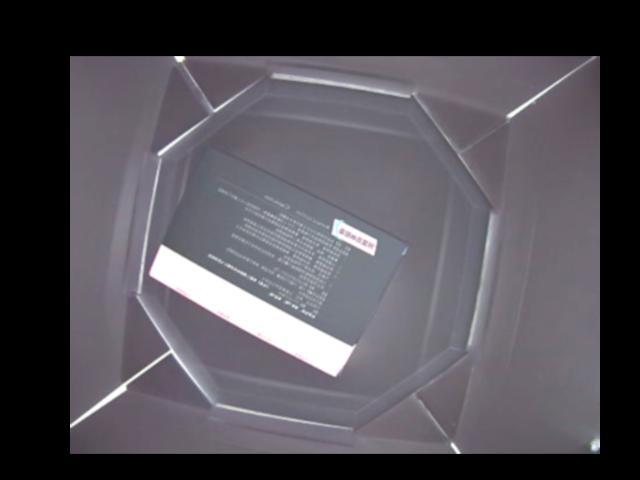Medicine: (147, 145, 406, 375)
